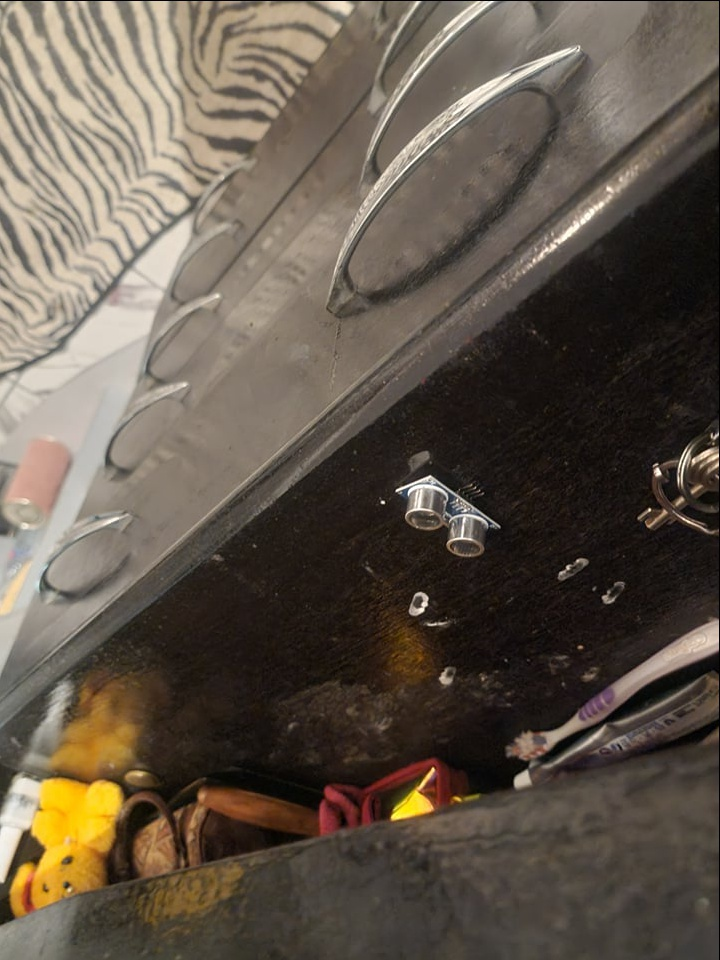SENSOR: (393, 471, 505, 560)
